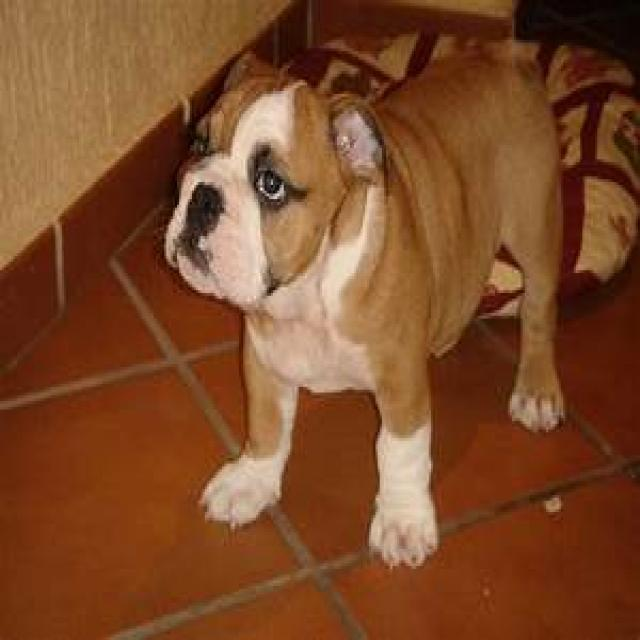KOPEK: (165, 39, 577, 556)
